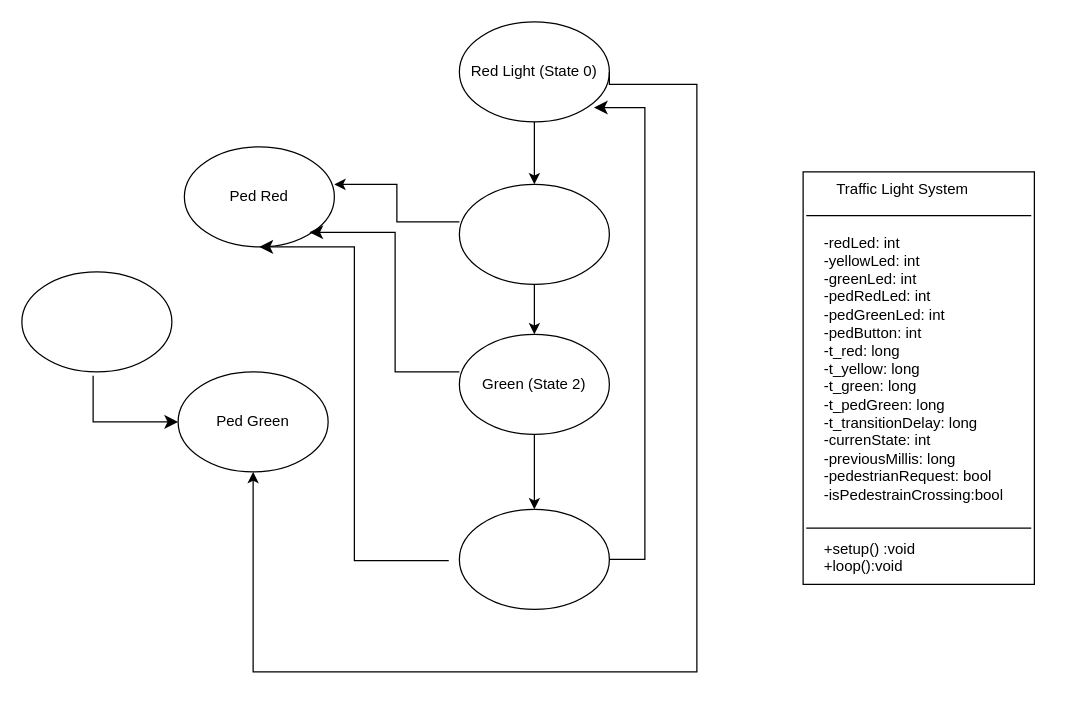
The diagram is 1069 pixels wide and 704 high, and some of its shapes have lost their labels. Here are the shapes that lost their labels. From the top down, the centre of each, then its label:
(533,233): Red → Yellow (State 1)
(96,321): Push Button
(533,558): Green → Yellow (State 3)
